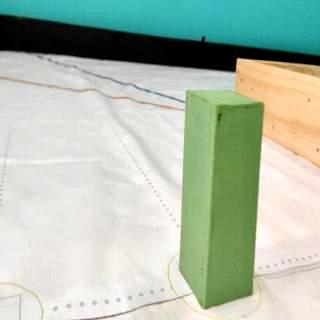greenbox: (180, 88, 264, 312)
